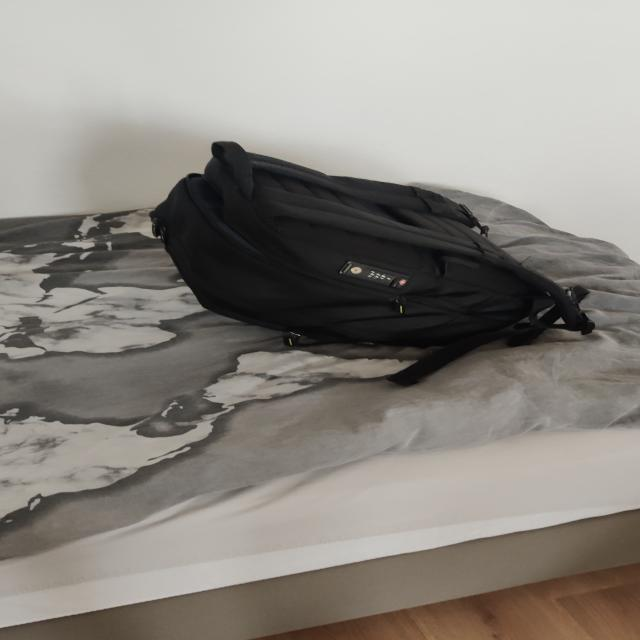backpack: (138, 134, 592, 374)
